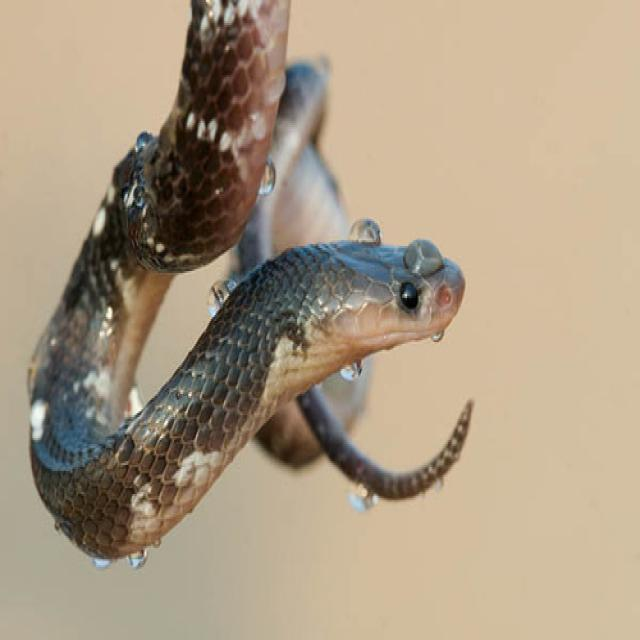Snake: (26, 0, 473, 569)
